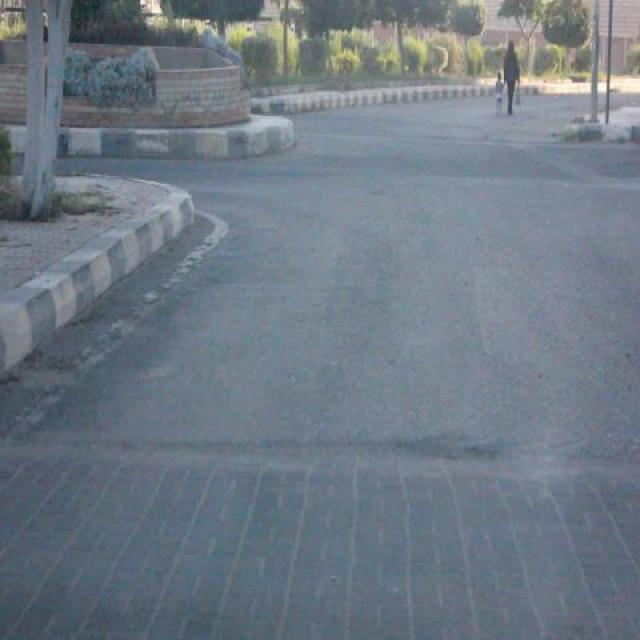Unmarked Bump: (0, 434, 639, 638)
